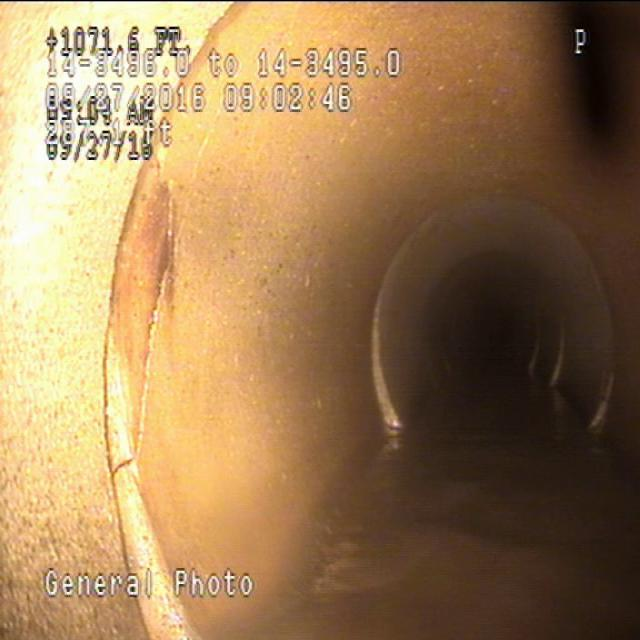Crack: (103, 188, 188, 466)
